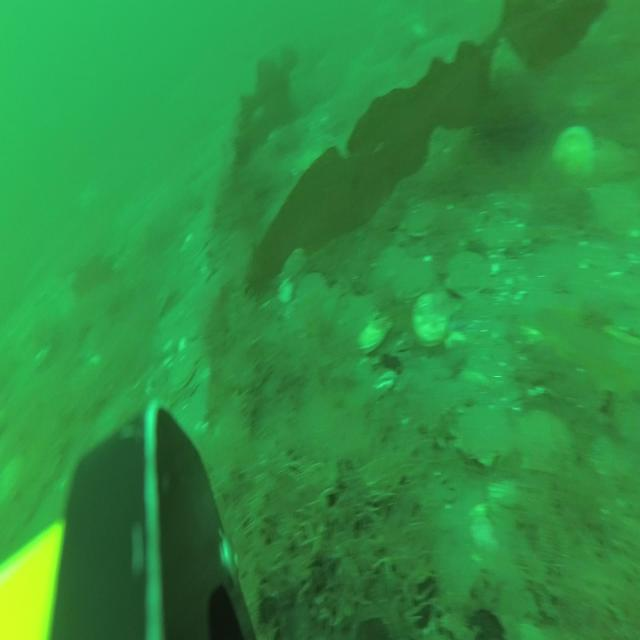scallop: (516, 404, 571, 476), (458, 404, 510, 464), (553, 124, 596, 186), (413, 292, 457, 346), (448, 246, 488, 296), (395, 257, 435, 306), (359, 310, 394, 360), (406, 196, 438, 241), (484, 212, 514, 256), (371, 244, 404, 282), (298, 272, 328, 311), (171, 344, 196, 388)
